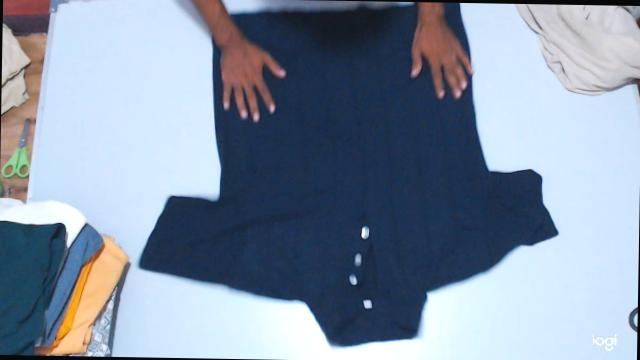new-garment: (140, 5, 557, 345)
